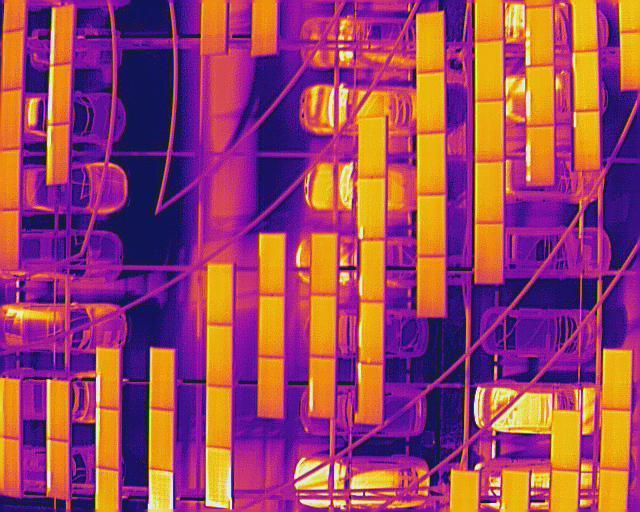Cell: (357, 179, 385, 240)
No-Anomaly: (603, 348, 633, 409), (416, 193, 445, 256), (257, 293, 285, 358), (475, 41, 505, 100), (475, 101, 504, 162), (417, 132, 445, 195), (206, 386, 234, 449), (602, 407, 629, 472), (357, 116, 384, 180), (476, 162, 504, 223), (417, 256, 445, 317), (207, 262, 234, 325), (417, 71, 444, 134), (552, 410, 582, 466), (259, 234, 286, 296), (206, 326, 233, 386), (417, 12, 443, 74), (250, 0, 278, 57), (311, 234, 337, 295), (258, 357, 284, 418), (310, 295, 335, 358), (475, 223, 502, 281), (575, 111, 600, 172), (150, 348, 175, 409), (149, 411, 173, 474), (0, 87, 22, 151), (202, 0, 227, 56), (0, 30, 24, 87), (575, 52, 598, 111), (572, 0, 597, 50)
Unclassified: (525, 126, 554, 185), (204, 447, 232, 508), (526, 65, 554, 125), (525, 8, 553, 67), (308, 357, 335, 418), (44, 439, 72, 497), (48, 4, 74, 65), (358, 303, 383, 364), (96, 345, 120, 408), (46, 379, 70, 442), (96, 408, 119, 473), (46, 122, 70, 184), (358, 239, 382, 299), (359, 364, 383, 423), (48, 64, 71, 125)
